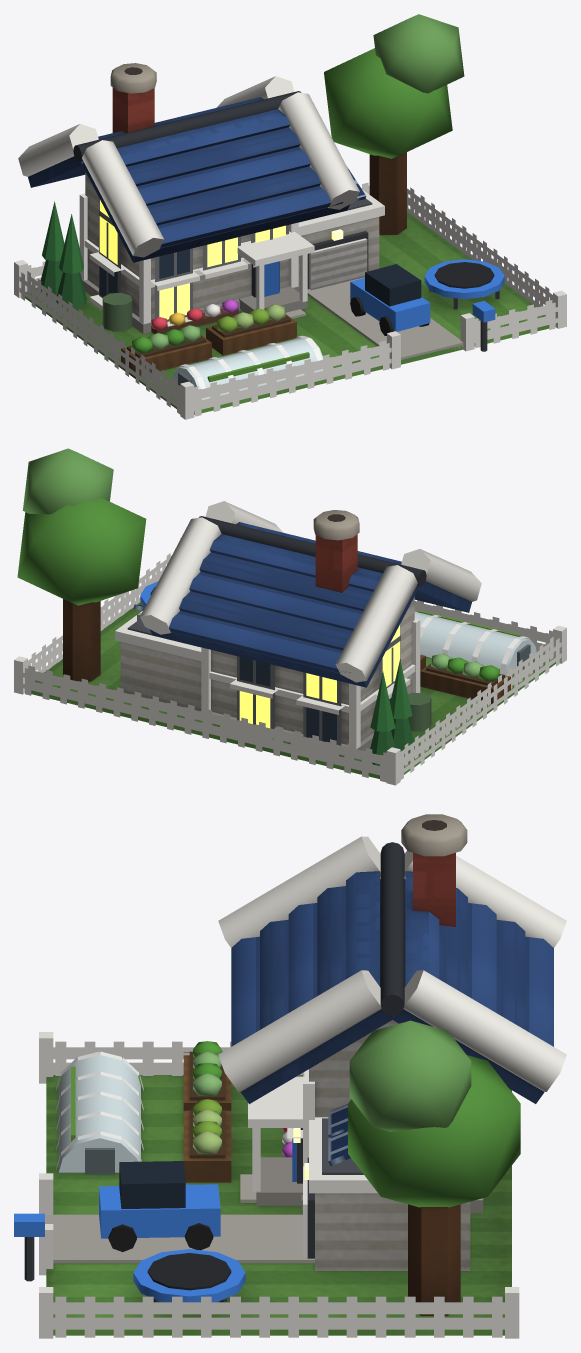
The model's file is homestead_modern_blue.glb.
The picture shows the model from 3 angles, top to bottom: view 1: azimuth 30°, elevation 25°; view 2: azimuth 150°, elevation 25°; view 3: azimuth 270°, elevation 25°; orthographic projection. The views are drawn at different scales.
Visible parts, largest first — view 1: homestead_modern_blue; view 2: homestead_modern_blue; view 3: homestead_modern_blue.
Part boxes in pixels (box(x1,y1,x2,y2)): homestead_modern_blue: box(14, 14, 566, 419); homestead_modern_blue: box(14, 448, 566, 785); homestead_modern_blue: box(14, 814, 566, 1338).
Size of the model in its own units: 0.5497 by 0.2894 by 0.463.
Materials: 3 (1 with a texture image).
